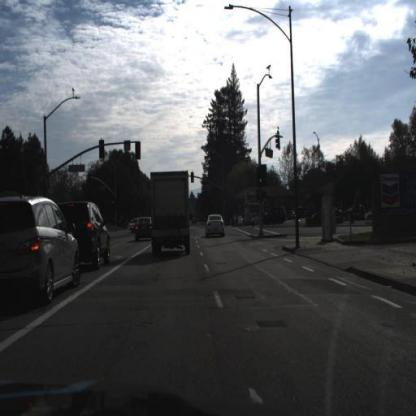car: (1, 197, 82, 311), (73, 199, 111, 269), (306, 203, 347, 228), (133, 214, 154, 245), (206, 210, 227, 238), (266, 206, 293, 227), (135, 217, 155, 244), (249, 210, 265, 231), (127, 217, 140, 238)
trafficLight-Green: (260, 165, 268, 187)
truck: (146, 167, 191, 267)
